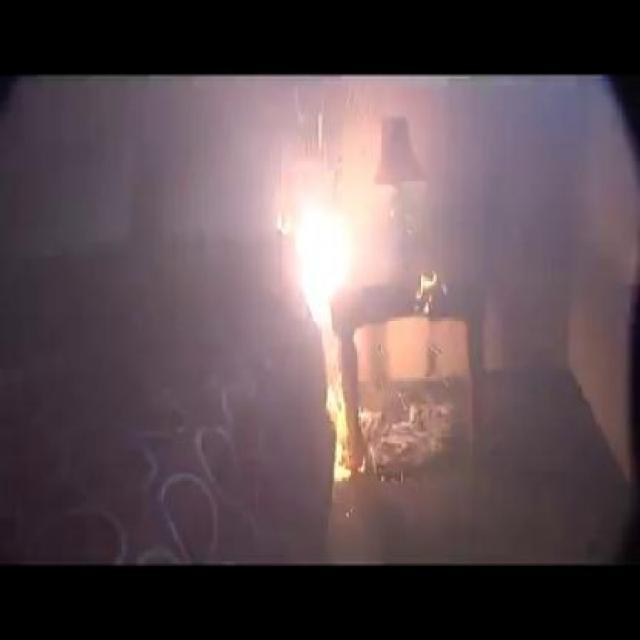fire: (266, 158, 434, 484)
